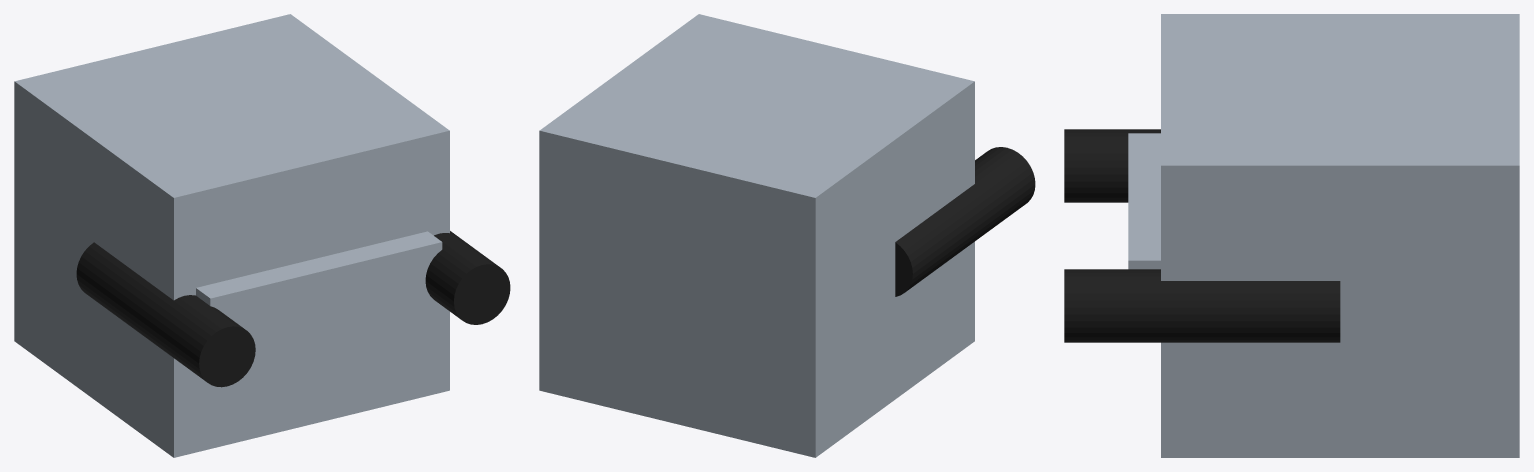
Rendered from head_002.obj.
3 views of the same model, side by side, from view 1: azimuth 30°, elevation 25°; view 2: azimuth 150°, elevation 25°; view 3: azimuth 270°, elevation 25° (orthographic). The views are drawn at different scales.
Bounding box in the file's own units: 0.44 × 0.351 × 0.495.
